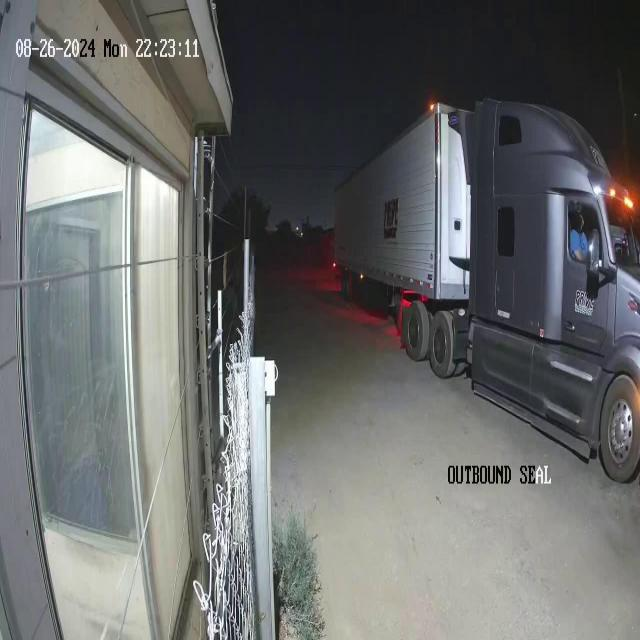TRUCK_IN: (333, 96, 639, 484)
